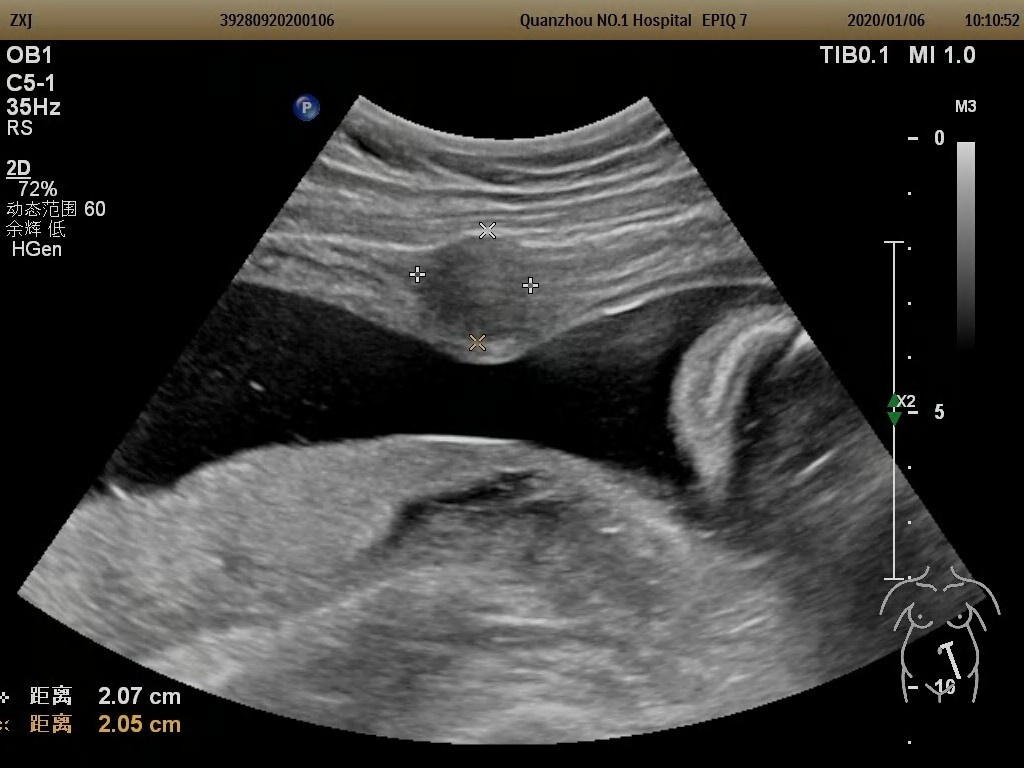肌瘤: (419, 234, 530, 344)
